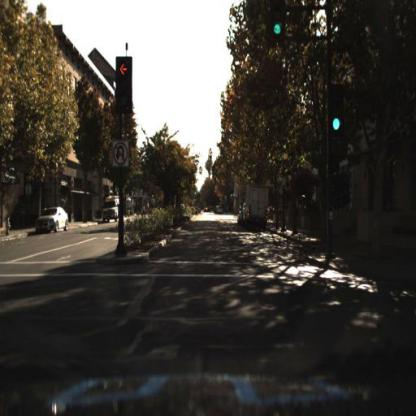car: (244, 184, 271, 228), (35, 206, 70, 236), (102, 193, 124, 224)
trafficLight-Green: (330, 86, 343, 139)
trafficLight-RedLeft: (115, 55, 133, 111), (118, 57, 134, 103)
truck: (244, 182, 271, 229)
